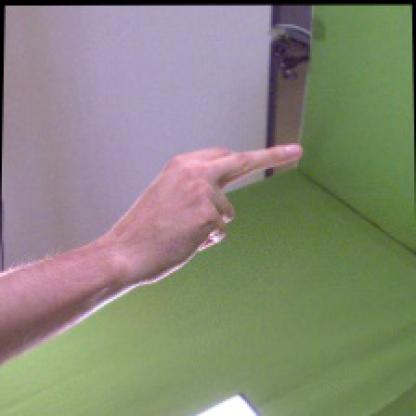Hand: (101, 142, 304, 285)
